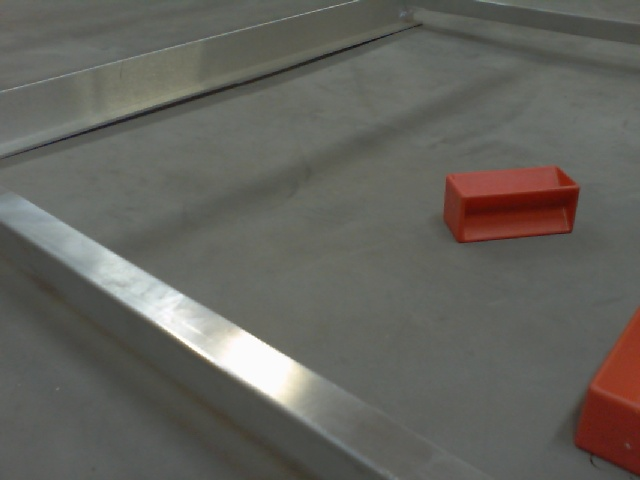RedSample: (442, 160, 582, 247), (573, 295, 640, 475)
